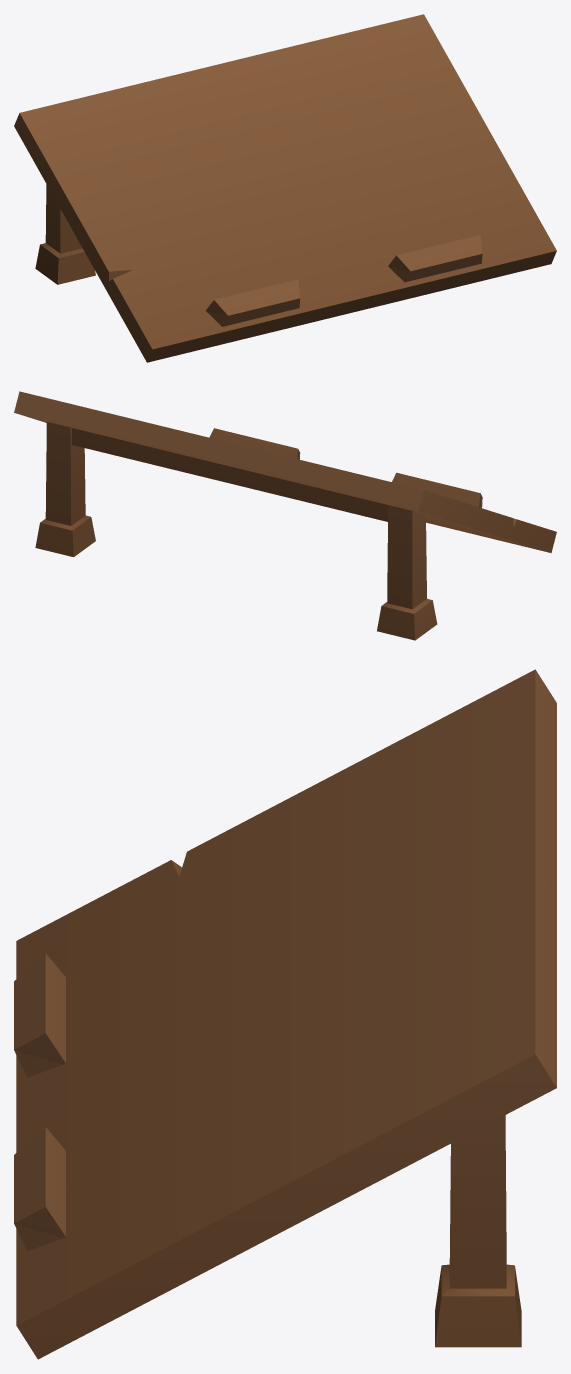
File: Bookstand2.fbx
3 views of the same model, one above another, from view 1: azimuth 30°, elevation 25°; view 2: azimuth 150°, elevation 25°; view 3: azimuth 270°, elevation 25° (orthographic). The views are drawn at different scales.
Parts seen in each view (by area): view 1: Bookstand2; view 2: Bookstand2; view 3: Bookstand2.
Boxes of the visible parts, left/top/right/bottom form: Bookstand2: left=14, top=14, right=556, bottom=362; Bookstand2: left=14, top=391, right=556, bottom=640; Bookstand2: left=14, top=669, right=556, bottom=1359.
Bounding box in the file's own units: 56.09 × 20.75 × 33.43.
